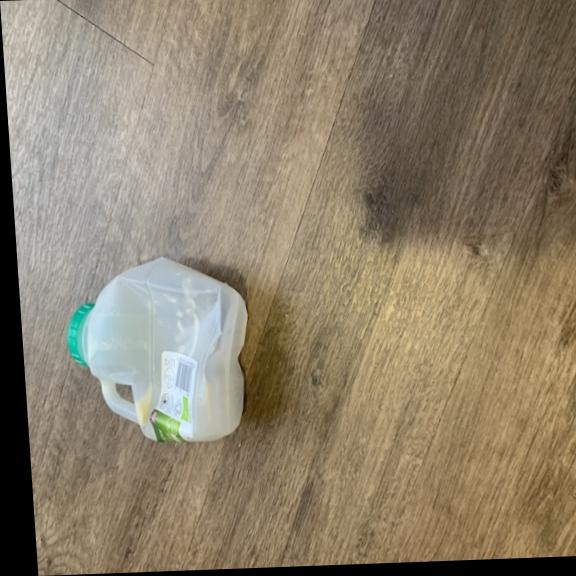Plastik: (58, 251, 261, 450)
